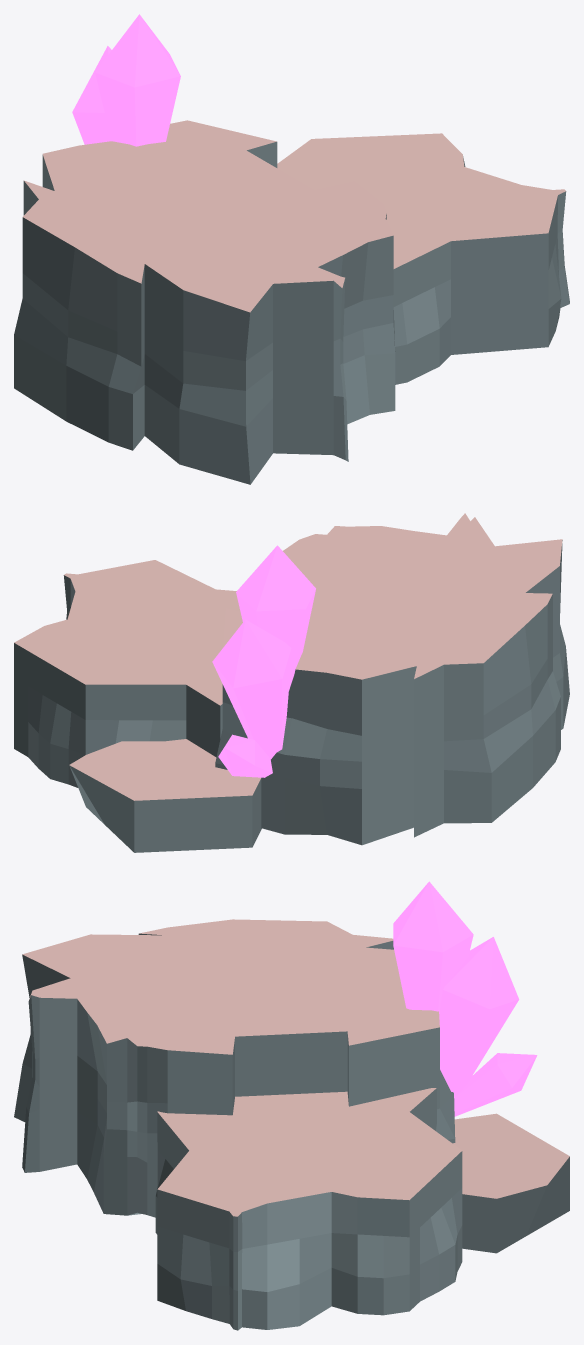
File: Egg_Hippogriff2.fbx
3 renders of one model, top to bottom at view 1: azimuth 30°, elevation 25°; view 2: azimuth 150°, elevation 25°; view 3: azimuth 270°, elevation 25°, orthographic. The views are drawn at different scales.
Parts seen in each view (by area): view 1: Circle, Circle.006, Circle.004; view 2: Circle, Circle.006, Circle.005, Circle.004; view 3: Circle, Circle.006, Circle.004, Circle.005.
Boxes of the visible parts, <box> form: Circle: <box>14,120,395,484</box>; Circle.006: <box>277,133,569,384</box>; Circle.004: <box>72,14,180,146</box>; Circle: <box>215,513,569,845</box>; Circle.006: <box>14,560,240,787</box>; Circle.005: <box>69,739,261,852</box>; Circle.004: <box>212,545,315,777</box>; Circle: <box>14,919,455,1217</box>; Circle.006: <box>155,1088,462,1330</box>; Circle.004: <box>393,881,537,1116</box>; Circle.005: <box>453,1113,569,1253</box>.
Bounding box in the file's own units: 552 × 307 × 533.
